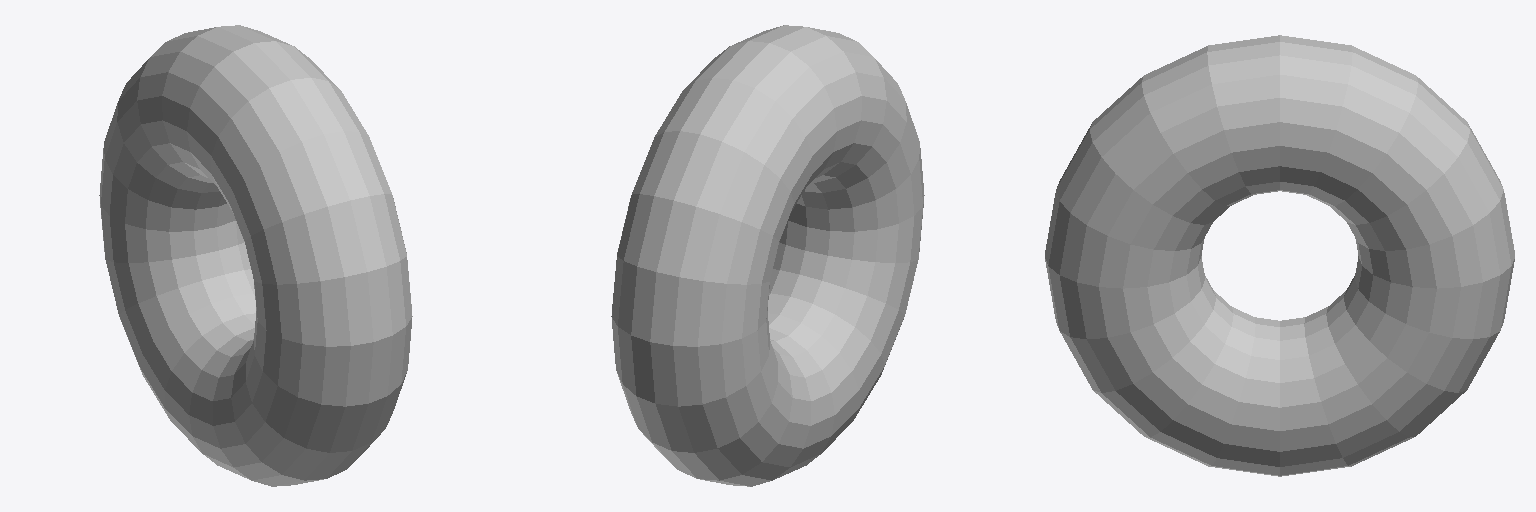
Rendered from tire.obj.
The picture shows the model from 3 angles: view 1: azimuth 30°, elevation 25°; view 2: azimuth 150°, elevation 25°; view 3: azimuth 270°, elevation 25°; orthographic projection.
Visible parts, largest first — view 1: pTorus1; view 2: pTorus1; view 3: pTorus1.
Boxes of the visible parts, box(x1,y1,x2,y2) form: pTorus1: box(99, 25, 412, 486); pTorus1: box(611, 25, 924, 486); pTorus1: box(1045, 35, 1514, 476).
Size of the model in its own units: 1.02 by 3 by 3.